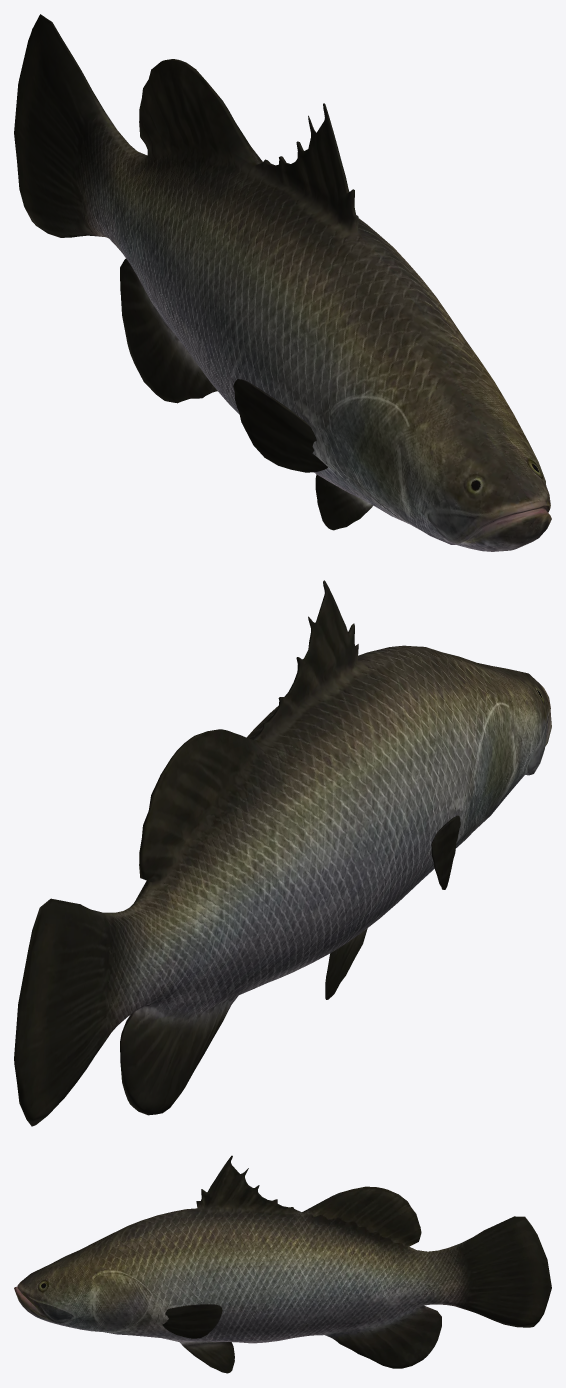
File: barramundi.glb
3 renders of one model, top to bottom at view 1: azimuth 30°, elevation 25°; view 2: azimuth 150°, elevation 25°; view 3: azimuth 270°, elevation 25°, orthographic. The views are drawn at different scales.
Parts seen in each view (by area): view 1: BarramundiFish; view 2: BarramundiFish; view 3: BarramundiFish.
Boxes of the visible parts, x1,y1,x2,y2 form: BarramundiFish: [14, 14, 551, 551]; BarramundiFish: [14, 580, 551, 1126]; BarramundiFish: [14, 1155, 551, 1373].
Bounding box in the file's own units: 0.1429 × 0.2875 × 0.6431.
Materials: 1 (1 with a texture image).
